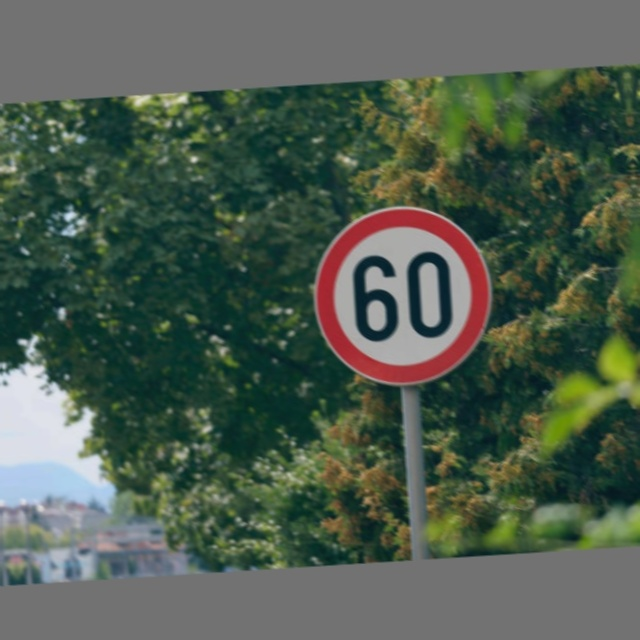Speed_Limit_60: (303, 200, 496, 392)
